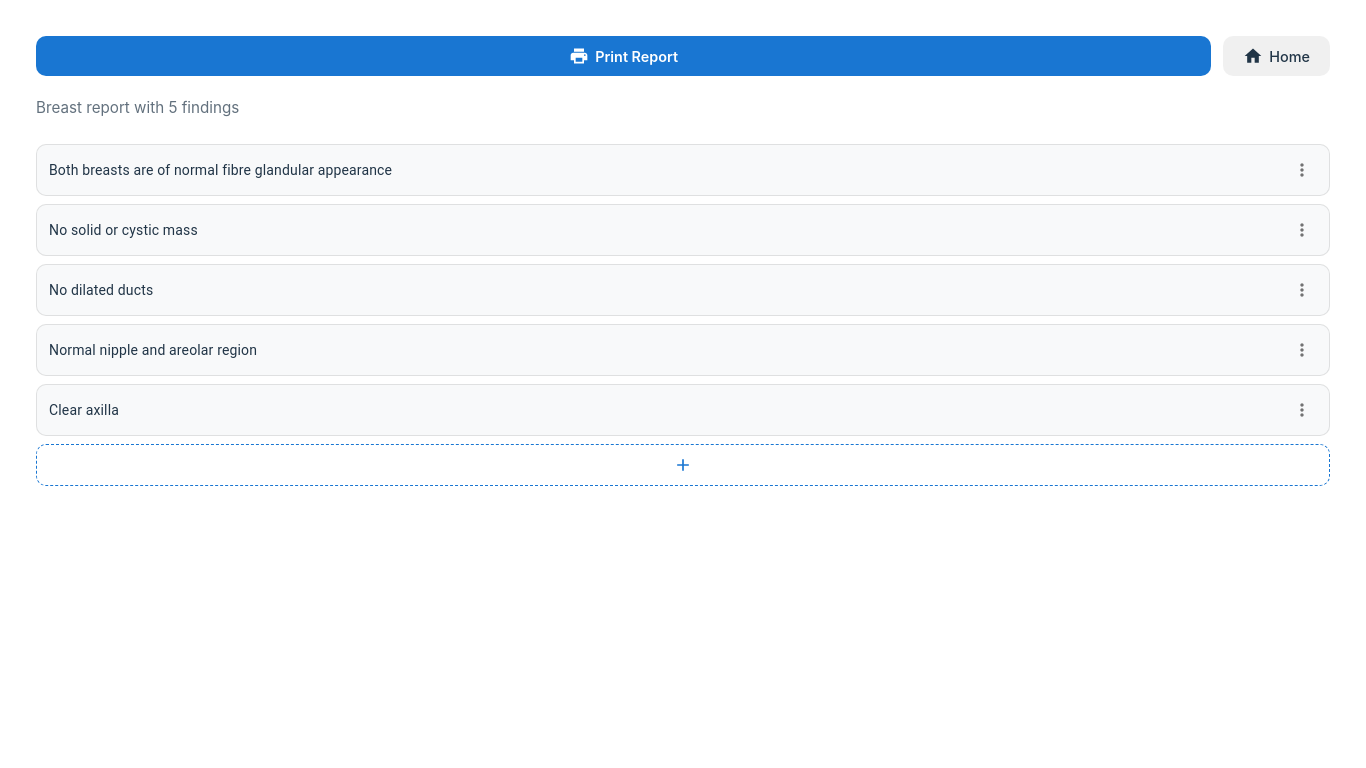
Test case: MobileReviewCard › edit from menu opens modal with finding text
Click the 1st button named "Finding options": (1302, 170) [1287, 155, 1317, 185]
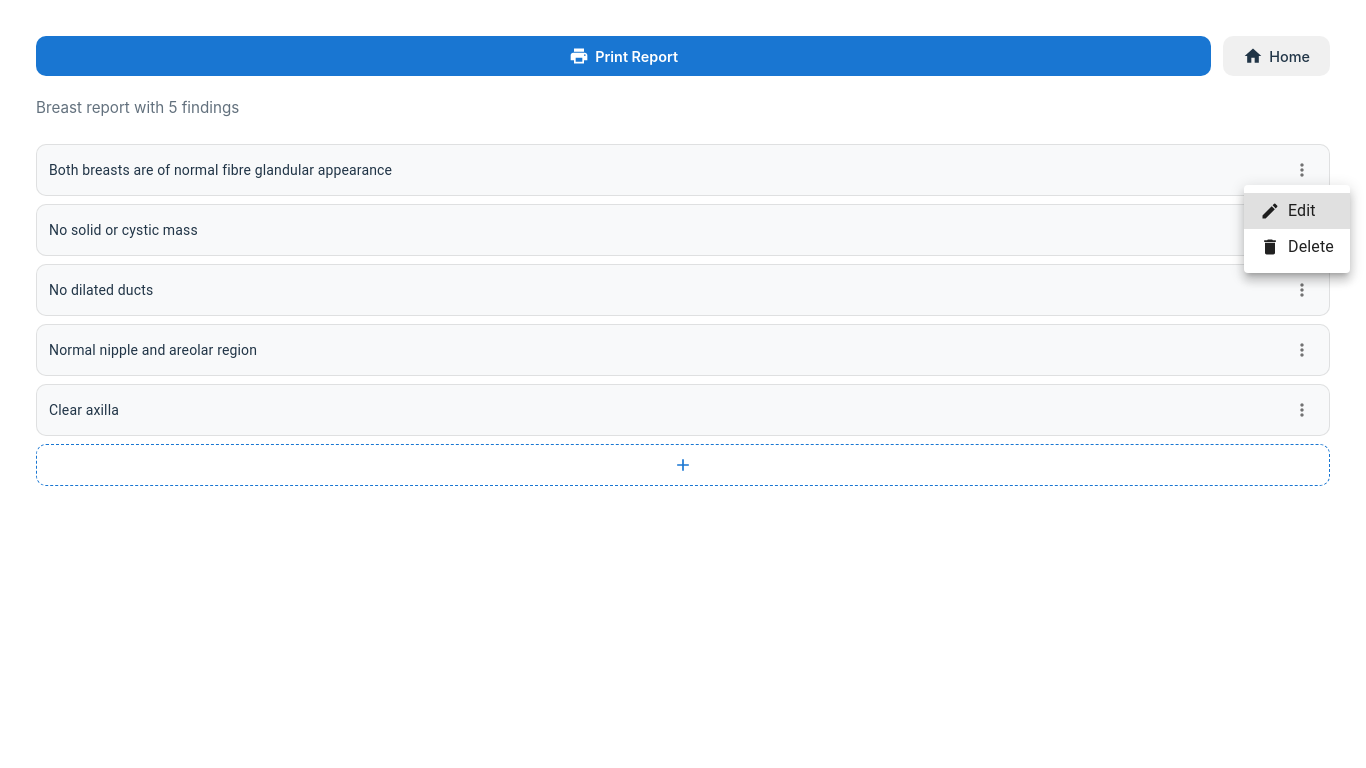
Click the menu item "Edit": (1297, 211) [1244, 193, 1350, 229]
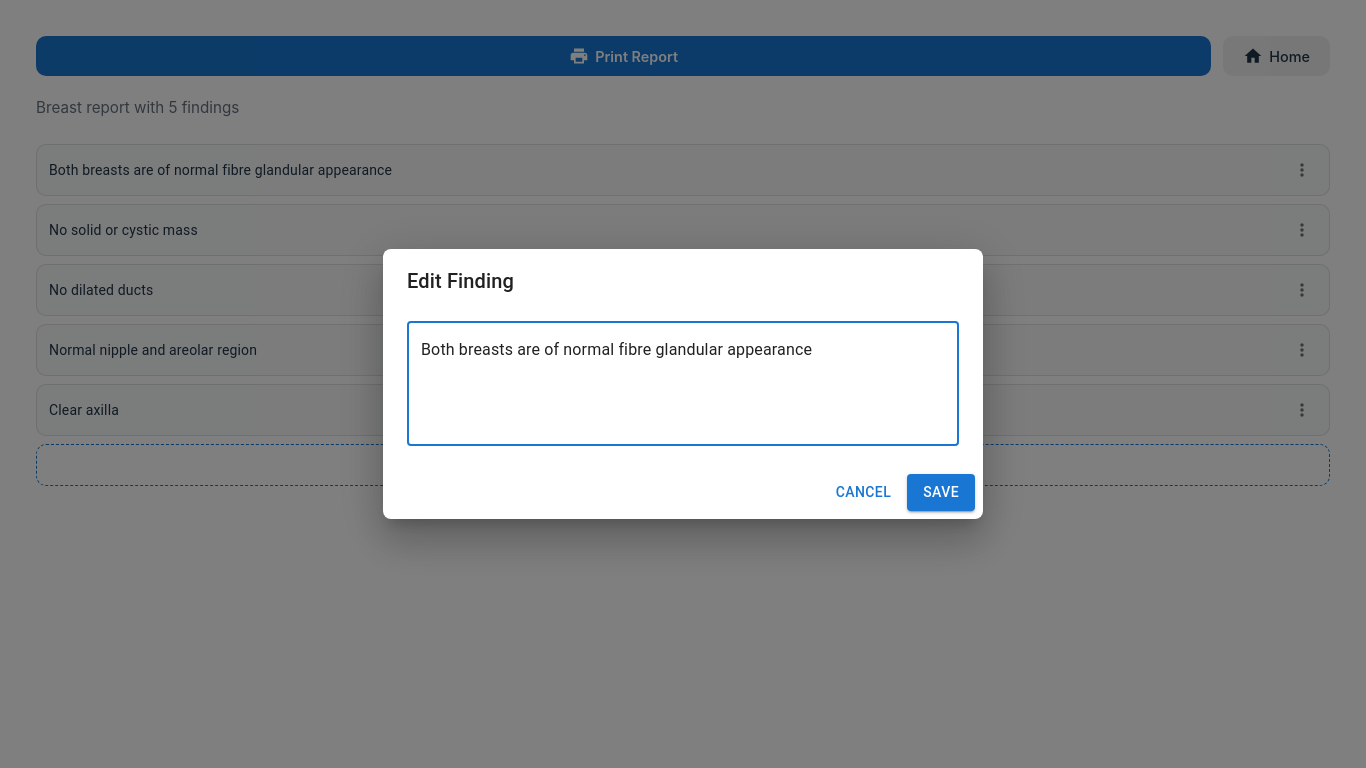
Check: the heading "Edit Finding" is shown, box [407, 269, 514, 293]
Check: the text box showing "Both breasts are of normal fibre glandular appearance" is shown, box [421, 338, 945, 430]
